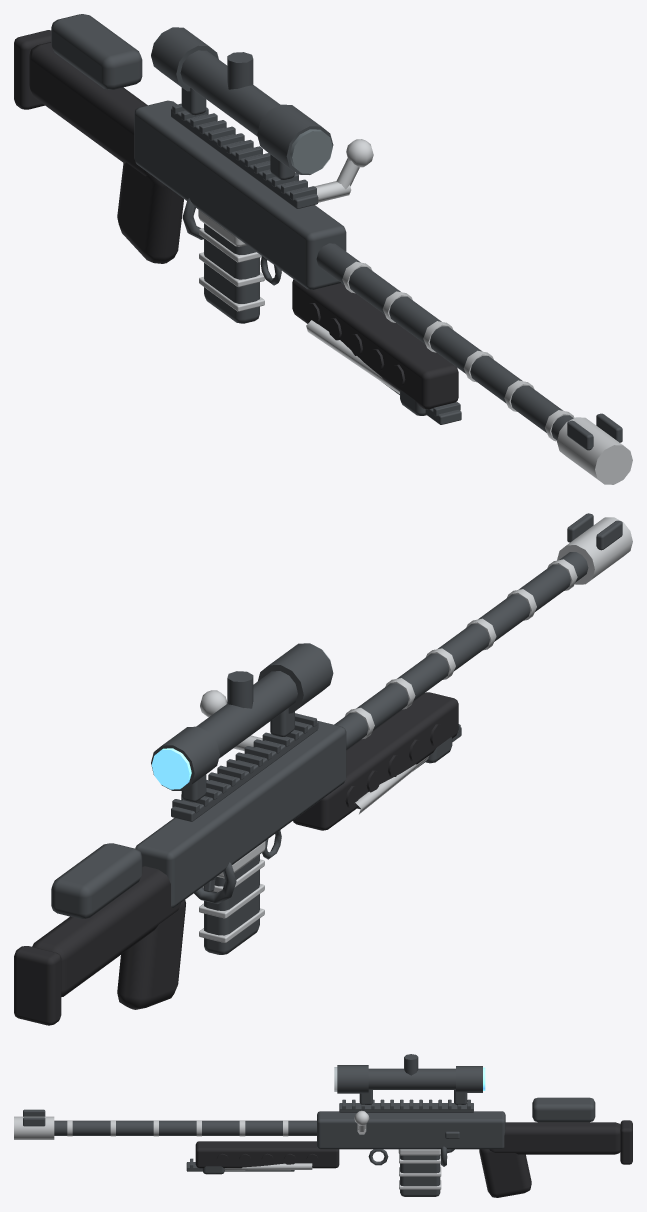
The model's file is rifle.glb.
3 views of the same model, one above another, from view 1: azimuth 30°, elevation 25°; view 2: azimuth 150°, elevation 25°; view 3: azimuth 270°, elevation 25° (orthographic). The views are drawn at different scales.
Parts seen in each view (by area): view 1: weapon-marksman-rifle, magazine/gunmetal, magazine/steel, bolt; view 2: weapon-marksman-rifle, magazine/gunmetal, magazine/steel, bolt; view 3: weapon-marksman-rifle, magazine/gunmetal, magazine/steel, bolt.
Boxes of the visible parts, x1=… form: weapon-marksman-rifle: x1=14, y1=14, x2=632, y2=484; magazine/gunmetal: x1=204, y1=223, x2=259, y2=323; magazine/steel: x1=198, y1=209, x2=264, y2=311; bolt: x1=315, y1=139, x2=373, y2=202; weapon-marksman-rifle: x1=14, y1=513, x2=632, y2=1025; magazine/gunmetal: x1=204, y1=855, x2=259, y2=954; magazine/steel: x1=199, y1=841, x2=265, y2=942; bolt: x1=200, y1=690, x2=262, y2=750; weapon-marksman-rifle: x1=14, y1=1054, x2=632, y2=1197; magazine/gunmetal: x1=400, y1=1155, x2=440, y2=1196; magazine/steel: x1=398, y1=1149, x2=441, y2=1189; bolt: x1=354, y1=1110, x2=369, y2=1134.
Bounding box in the file's own units: 0.1545 × 0.3444 × 1.38.
